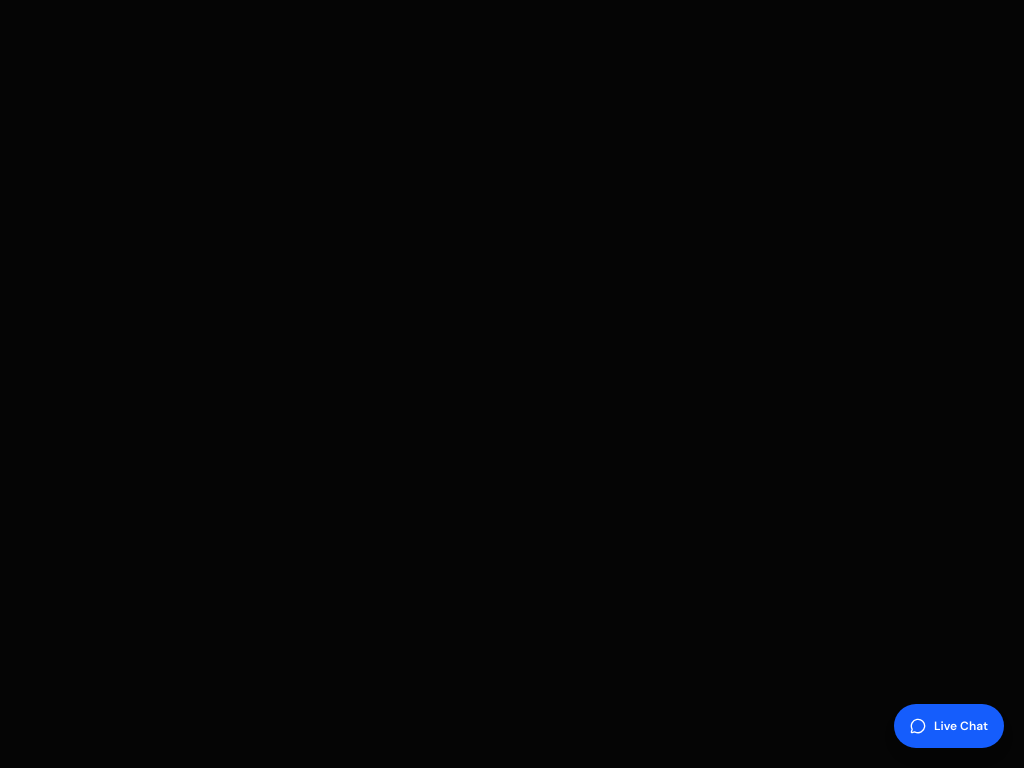
Test: Portfolio Core Flows › renders audio call, video call, voice recorder button, and voice note audio player in LiveChatWidget
Click the button with aria-label "live support chat".
click(949, 726)  # box [894,704,1004,748]
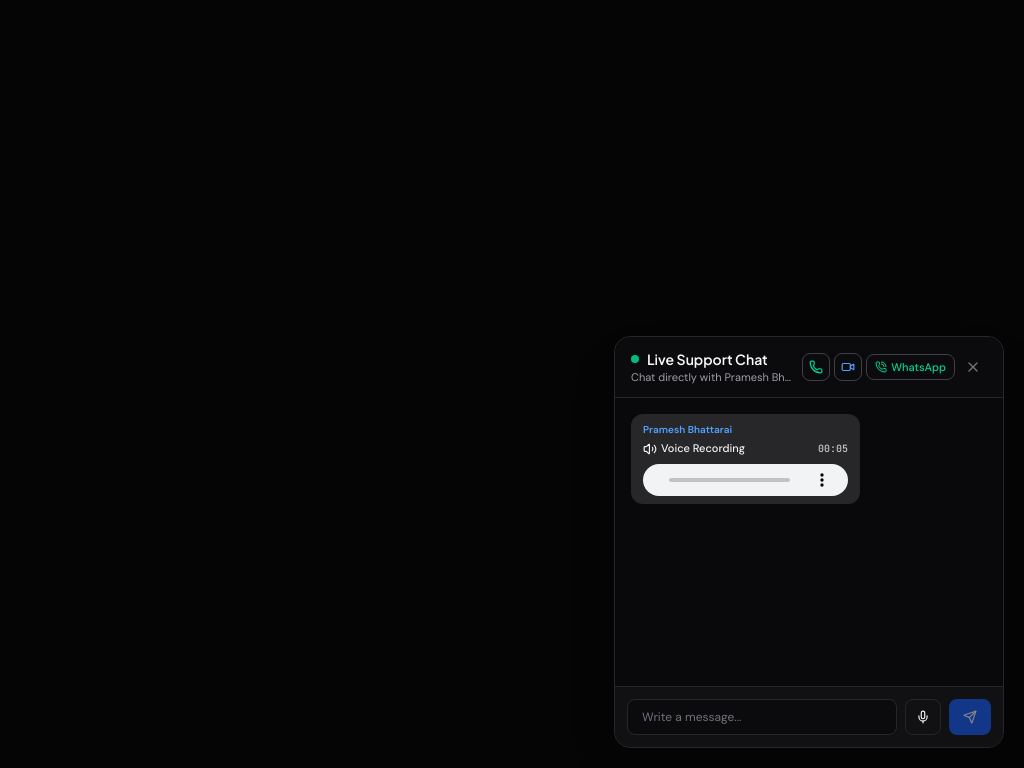
Now the button named "start audio call" is shown, box [802,353,830,381]
Now the button named "start video call" is shown, box [834,353,862,381]
Now the button named "record voice message" is shown, box [905,699,941,735]
